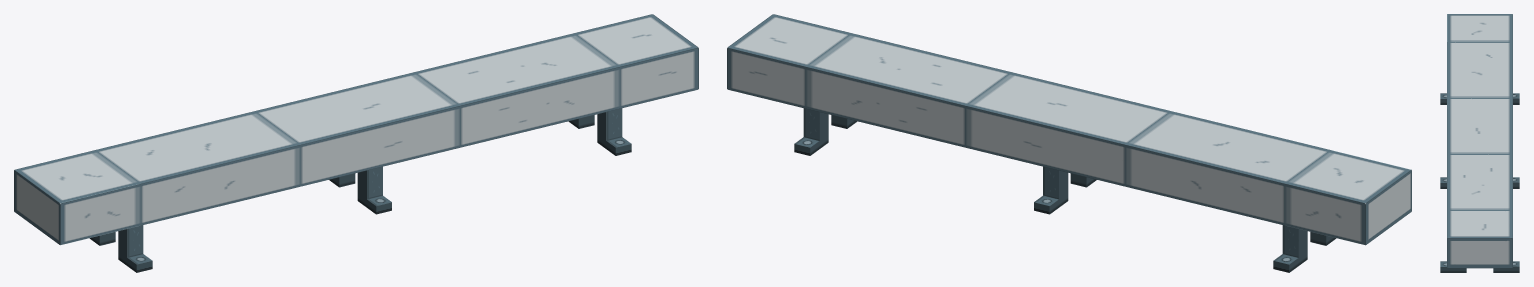
The model's file is Duct.fbx.
3 views of the same model, side by side, from view 1: azimuth 30°, elevation 25°; view 2: azimuth 150°, elevation 25°; view 3: azimuth 270°, elevation 25° (orthographic). The views are drawn at different scales.
Parts seen in each view (by area): view 1: cuboid, cuboid_3, cuboid_2, cuboid_1; view 2: cuboid, cuboid_6, cuboid_4, cuboid_5; view 3: cuboid, cuboid_3, cuboid_6, cuboid_1, cuboid_2, cuboid_4, cuboid_5.
Boxes of the visible parts, x1=… form: cuboid: x1=14, y1=14, x2=698, y2=245; cuboid_3: x1=597, y1=108, x2=631, y2=155; cuboid_2: x1=118, y1=225, x2=152, y2=272; cuboid_1: x1=357, y1=166, x2=391, y2=214; cuboid: x1=727, y1=14, x2=1411, y2=245; cuboid_6: x1=794, y1=108, x2=828, y2=155; cuboid_4: x1=1273, y1=225, x2=1307, y2=272; cuboid_5: x1=1034, y1=166, x2=1068, y2=214; cuboid: x1=1447, y1=14, x2=1512, y2=268; cuboid_3: x1=1440, y1=261, x2=1466, y2=272; cuboid_6: x1=1493, y1=261, x2=1519, y2=272; cuboid_1: x1=1440, y1=177, x2=1446, y2=188; cuboid_2: x1=1440, y1=93, x2=1446, y2=104; cuboid_4: x1=1513, y1=93, x2=1519, y2=104; cuboid_5: x1=1513, y1=177, x2=1519, y2=188.
Size of the model in its own units: 50 by 6.25 by 7.5.
Materials: 1 (1 with a texture image).
